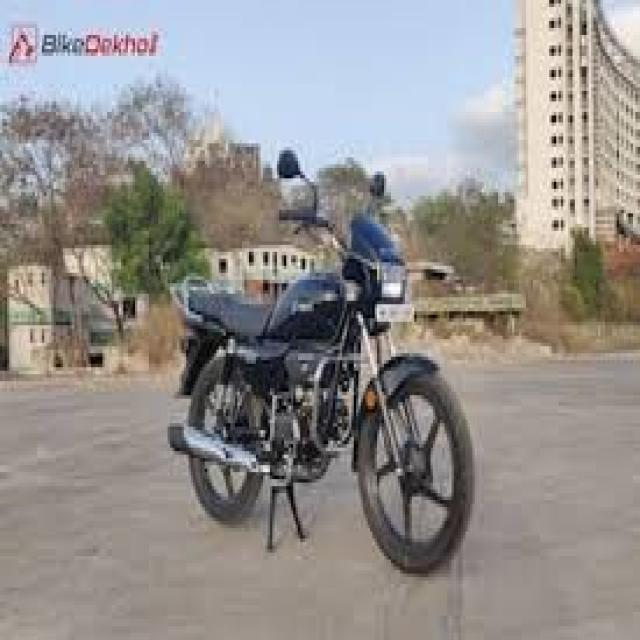Bike: (167, 143, 481, 576)
